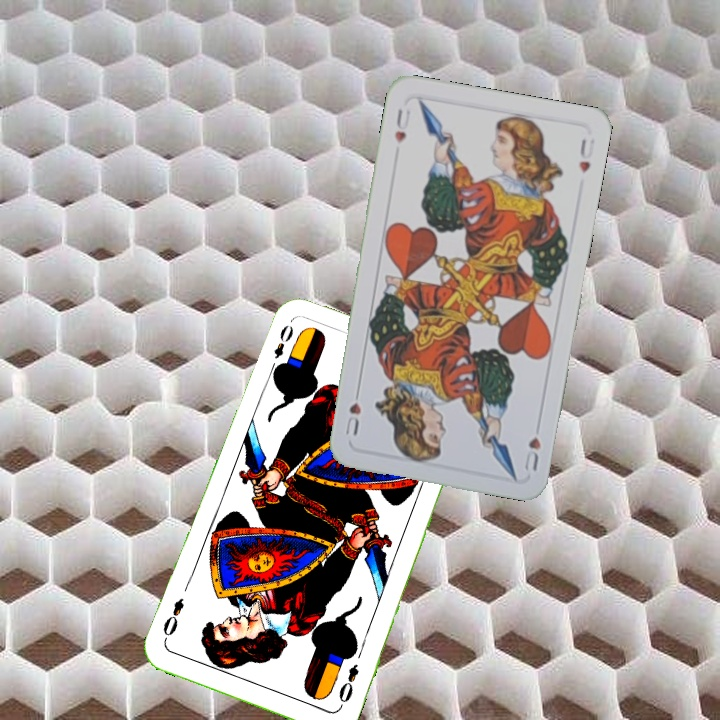EO: (265, 320, 296, 376), (334, 659, 362, 711)
HU: (390, 105, 414, 146), (520, 433, 543, 473)
